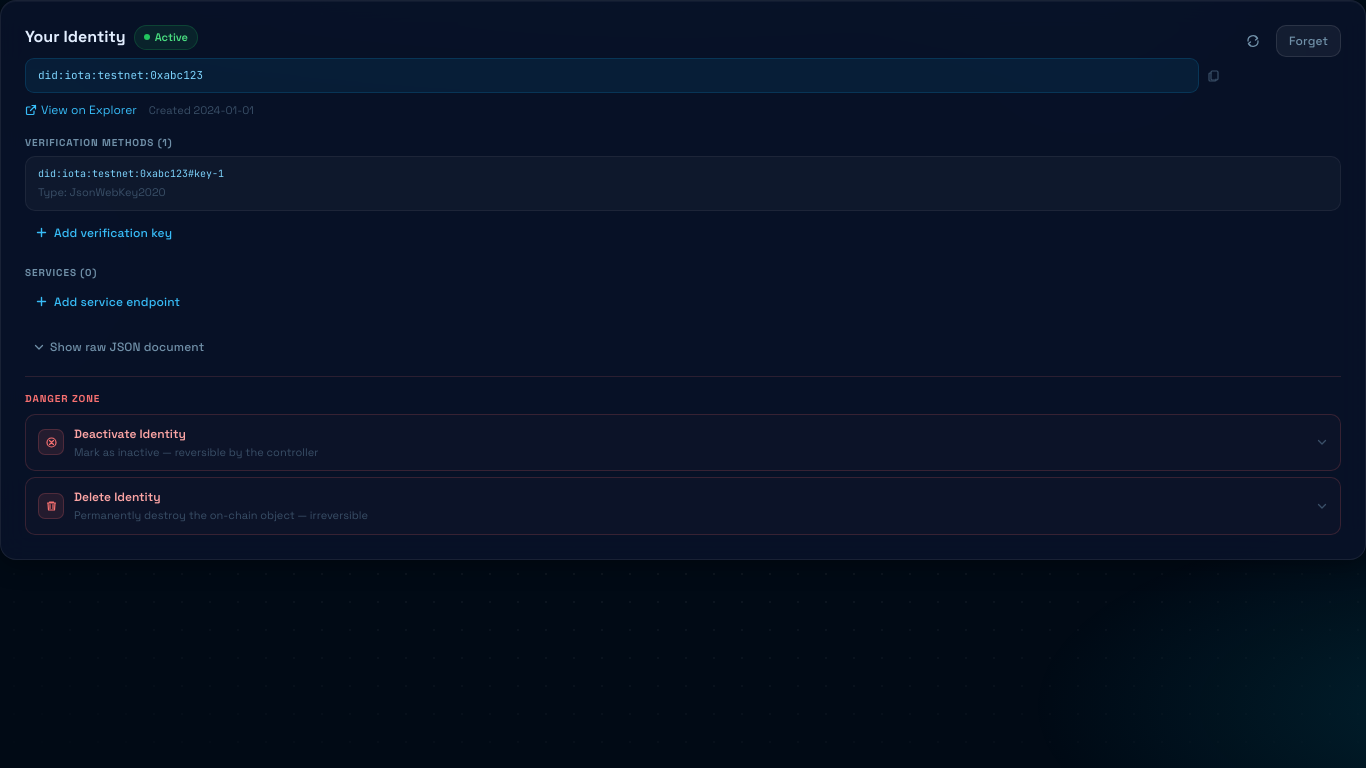
Test: IdentityDashboard — Danger Zone › Deactivate DID button is disabled until the confirmation checkbox is checked
What coordinates should you click on to do the following:
click the button "Deactivate Identity"
I would click on:
 (130, 434)
Its box is top-left (26, 415), bottom-right (1340, 470).
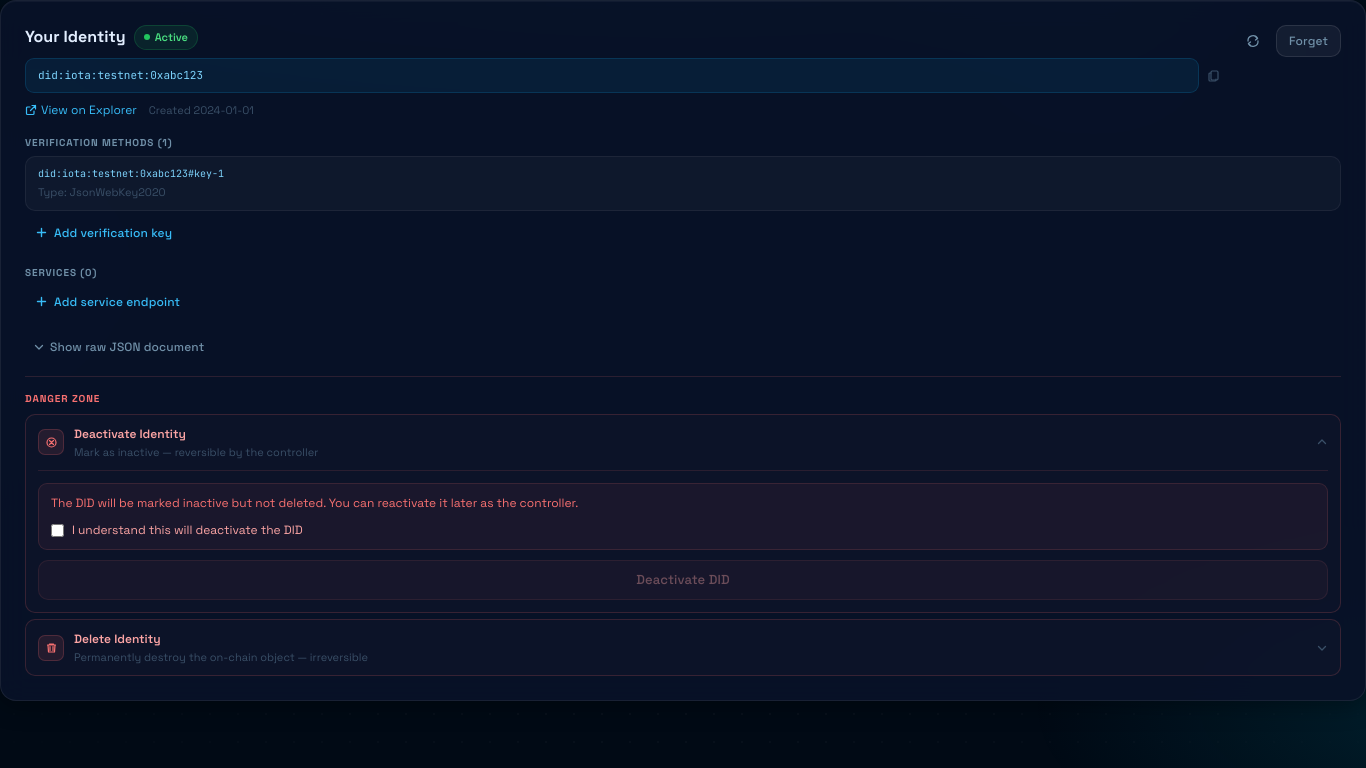
Result: the button "Deactivate DID" is disabled at top-left (38, 560), bottom-right (1328, 600)
What coordinates should you click on to do the following:
click the checkbox
I would click on:
 (58, 530)
Its box is top-left (51, 524), bottom-right (64, 537).
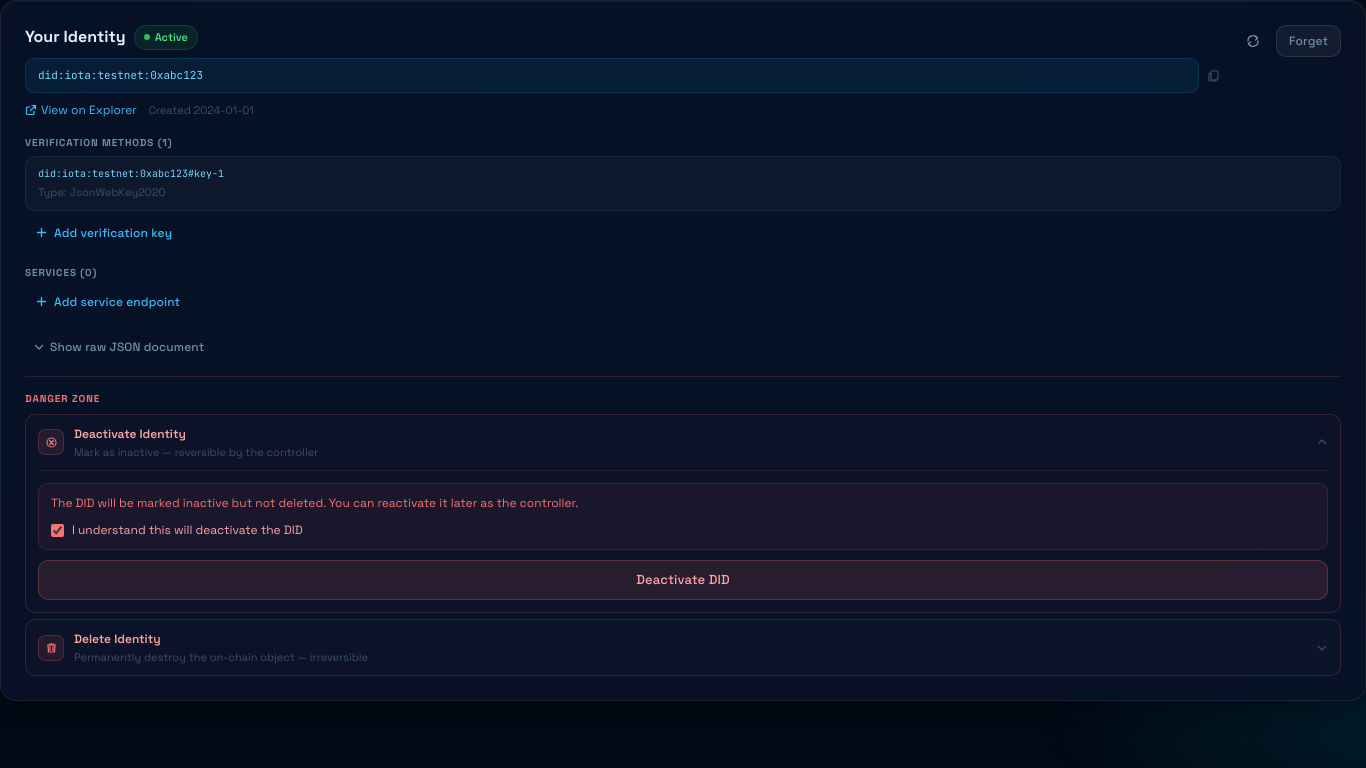
Result: the button "Deactivate DID" is enabled at top-left (38, 560), bottom-right (1328, 600)
